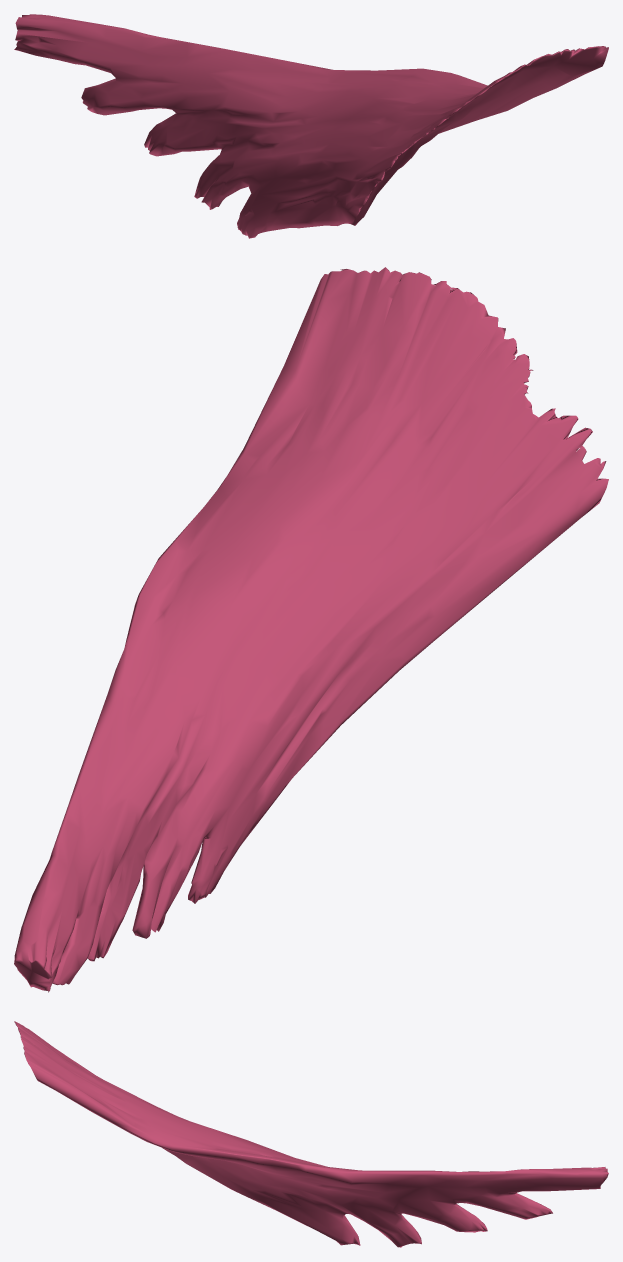
The picture shows the model from 3 angles, top to bottom: view 1: azimuth 30°, elevation 25°; view 2: azimuth 150°, elevation 25°; view 3: azimuth 270°, elevation 25°; orthographic projection. The views are drawn at different scales.
Visible parts, largest first — view 1: 右侧头棘肌; view 2: 右侧头棘肌; view 3: 右侧头棘肌.
Boxes of the visible parts, x1,y1,x2,y2 form: 右侧头棘肌: (14,14,608,238); 右侧头棘肌: (14,267,608,992); 右侧头棘肌: (14,1021,608,1247).
Bounding box in the file's own units: 0.0611 × 0.0805 × 0.1828.
